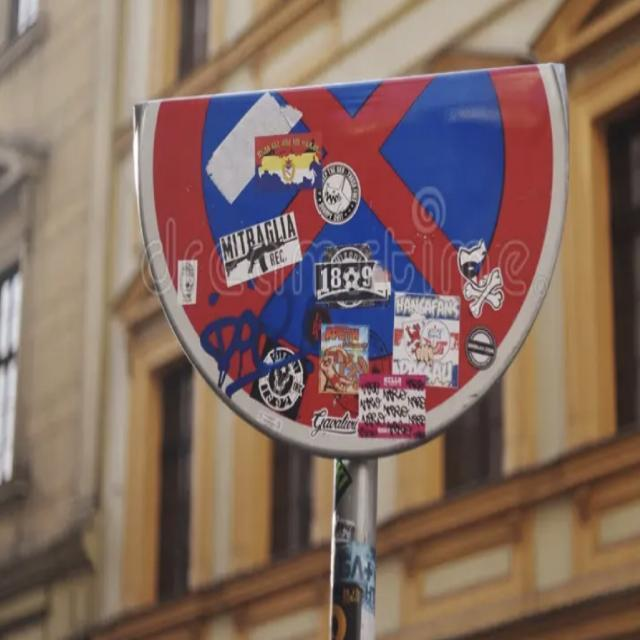Bending: (0, 0, 640, 640)
Damage: (0, 0, 640, 640)
Vandalism: (0, 0, 640, 640)
